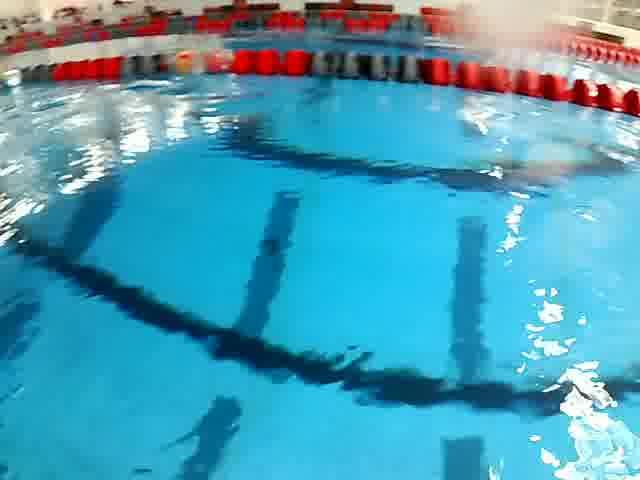Bottle: (153, 48, 230, 81)
